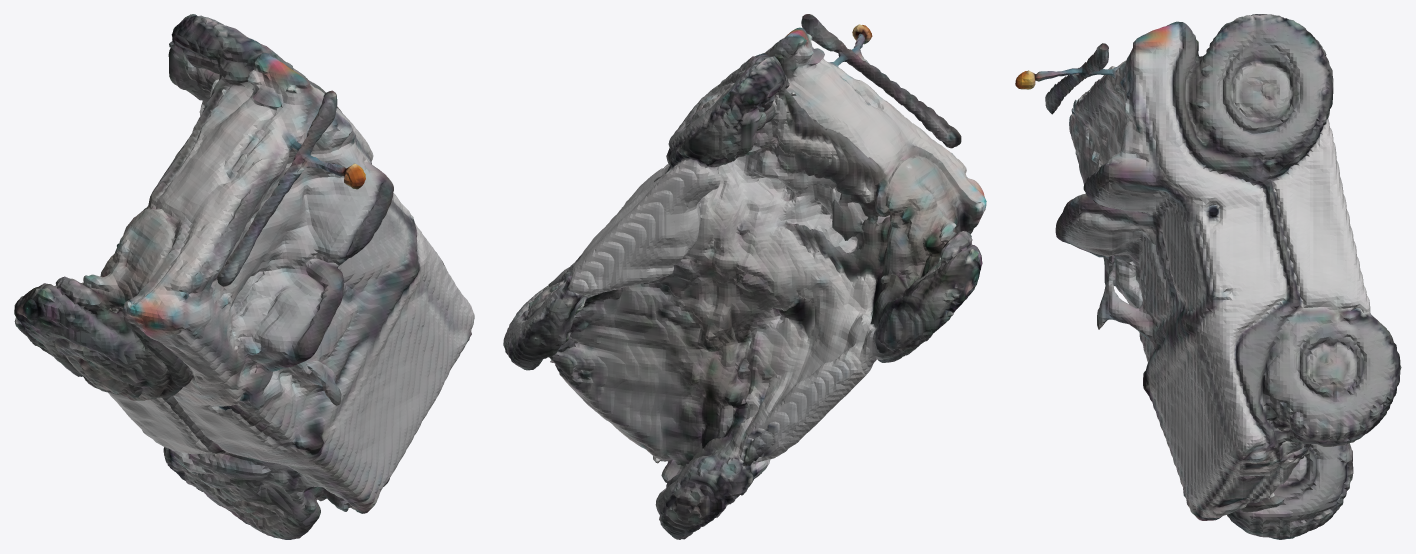
File: triposr_moon_buggy_a.glb
3 views of the same model, side by side, from view 1: azimuth 30°, elevation 25°; view 2: azimuth 150°, elevation 25°; view 3: azimuth 270°, elevation 25° (orthographic). The views are drawn at different scales.
Visible parts, largest first — view 1: geometry_0; view 2: geometry_0; view 3: geometry_0.
Boxes of the visible parts, bbox=[...] form: geometry_0: bbox=[14, 14, 474, 539]; geometry_0: bbox=[503, 14, 986, 539]; geometry_0: bbox=[1015, 14, 1401, 539].
Bounding box in the file's own units: 1 × 1.1 × 0.7867.
